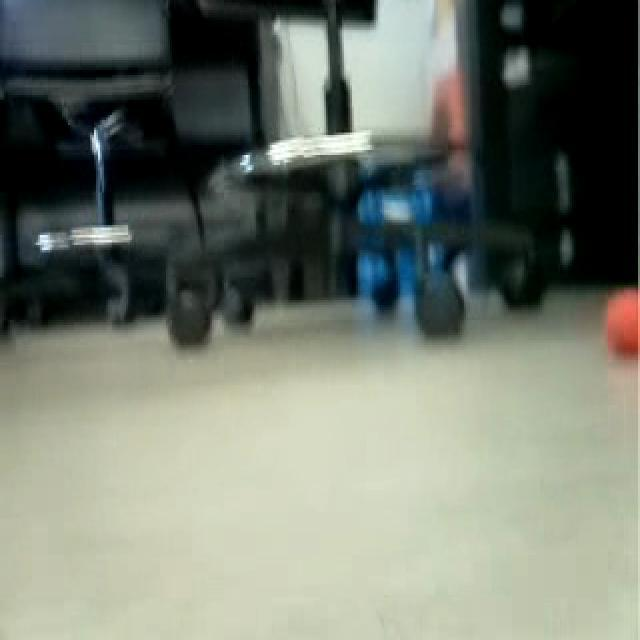oball: (607, 285, 640, 362)
